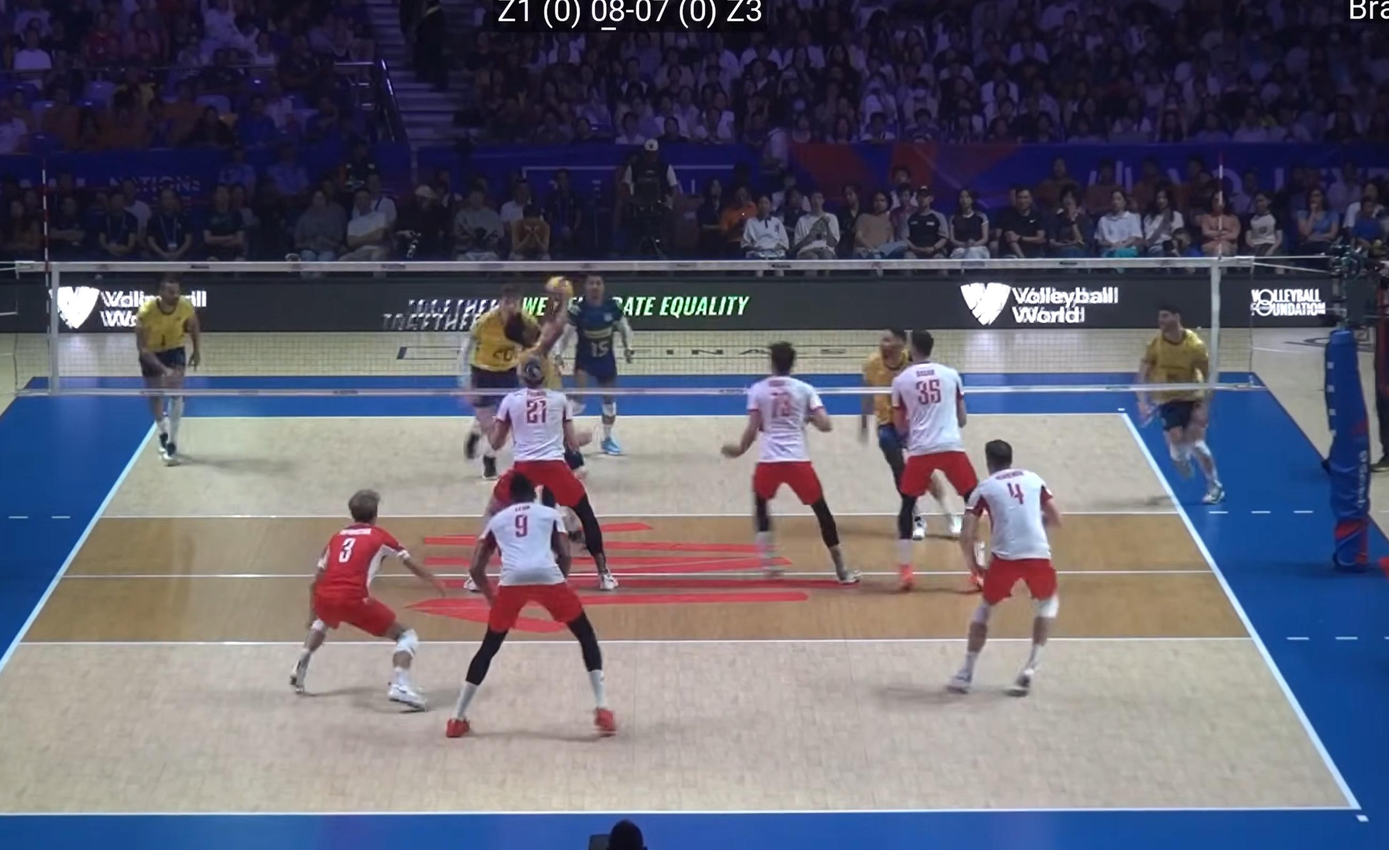alzata: (507, 269, 580, 397)
